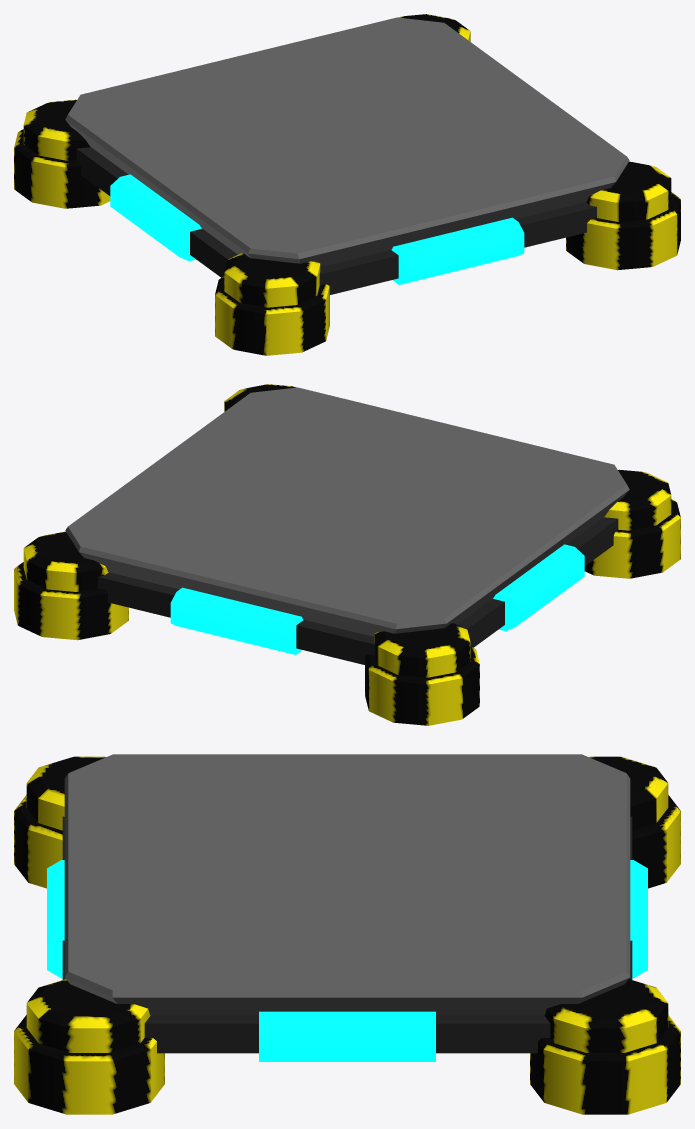
Rendered from plataforma que cae.glb.
3 renders of one model, top to bottom at view 1: azimuth 30°, elevation 25°; view 2: azimuth 150°, elevation 25°; view 3: azimuth 270°, elevation 25°, orthographic. The views are drawn at different scales.
Parts seen in each view (by area): view 1: Cube; view 2: Cube; view 3: Cube.
Part boxes in pixels (x1,y1,x2,y2): Cube: (14, 14, 680, 355); Cube: (14, 384, 680, 725); Cube: (14, 754, 680, 1114).
Size of the model in its own units: 2.48 by 0.4196 by 2.49.
Materials: 1 (1 with a texture image).
